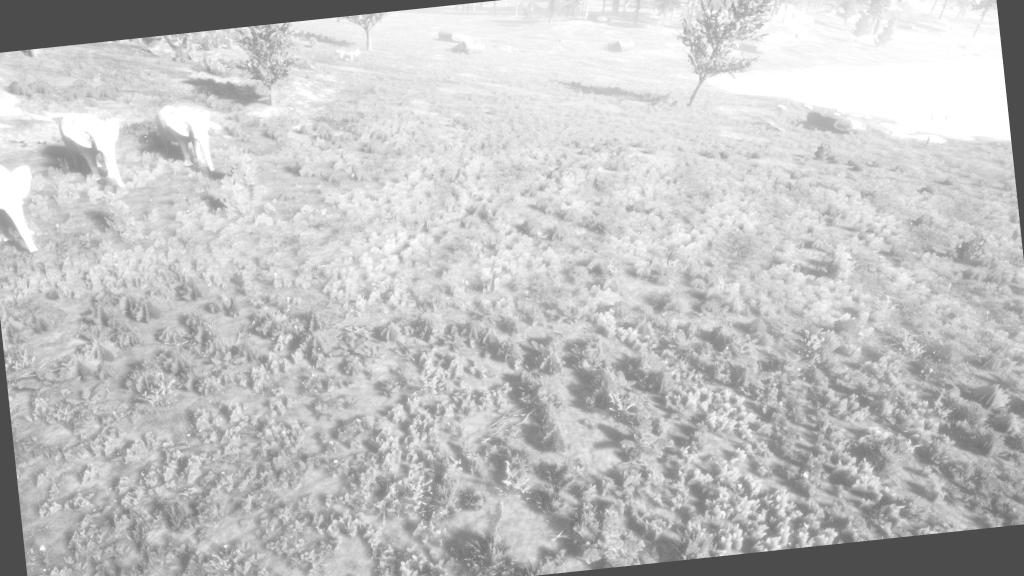elephant: (140, 83, 234, 188), (48, 97, 138, 198)
